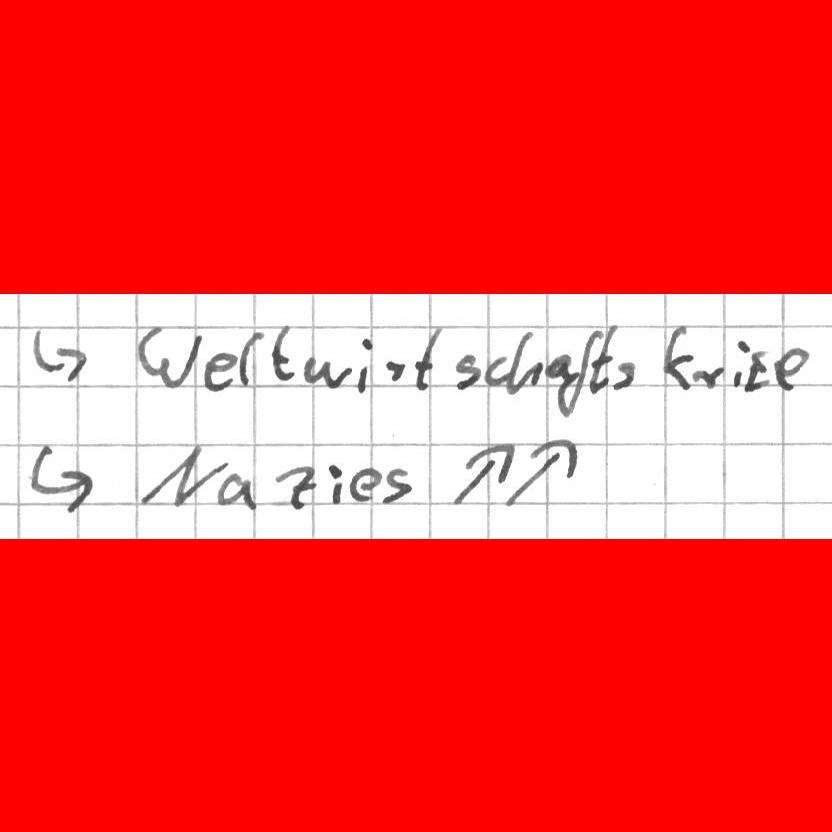Char: (140, 446, 221, 507), (26, 438, 91, 511), (512, 433, 578, 503), (138, 326, 201, 391), (449, 442, 514, 503), (566, 321, 603, 416), (29, 324, 86, 381), (661, 322, 695, 391), (588, 324, 620, 394), (506, 330, 541, 393), (273, 464, 319, 511), (413, 324, 444, 392), (772, 345, 809, 396), (269, 319, 296, 386), (301, 356, 352, 391), (216, 470, 256, 511), (204, 347, 235, 394), (239, 329, 263, 389), (382, 465, 412, 506), (728, 337, 750, 390), (349, 465, 378, 505), (544, 351, 579, 384), (453, 351, 481, 392), (745, 348, 769, 394), (354, 337, 373, 392), (690, 364, 727, 390), (612, 357, 637, 392), (326, 461, 345, 506), (483, 352, 505, 389), (384, 358, 407, 382)
